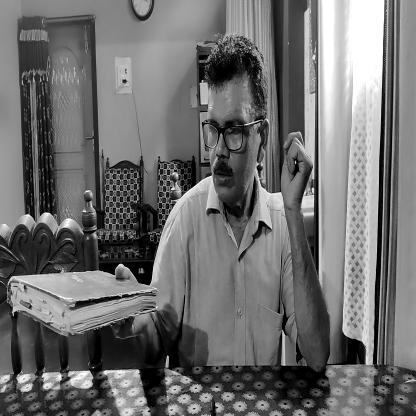Distracted: (197, 34, 266, 206)
